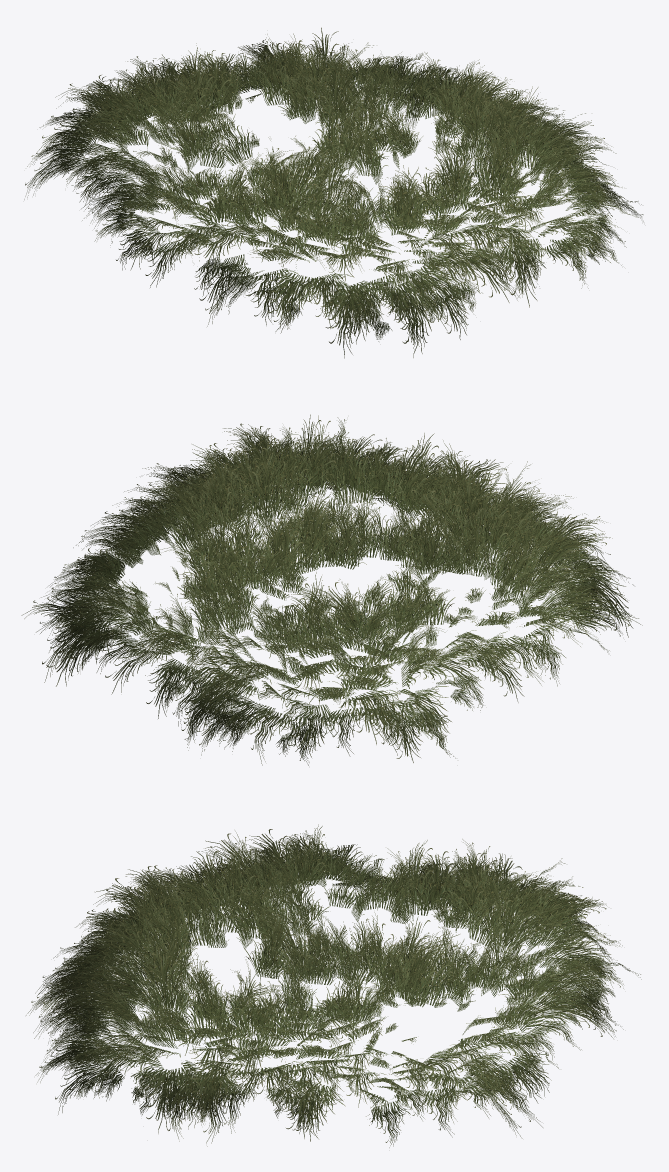
The model's file is Gras_Boulder_S_Gras_ds.fbx.
3 views of the same model, one above another, from view 1: azimuth 30°, elevation 25°; view 2: azimuth 150°, elevation 25°; view 3: azimuth 270°, elevation 25° (orthographic). The views are drawn at different scales.
Visible parts, largest first — view 1: Gras_Boulder_S_Gras; view 2: Gras_Boulder_S_Gras; view 3: Gras_Boulder_S_Gras.
Boxes of the visible parts, <box> form: Gras_Boulder_S_Gras: <box>24,27,643,358</box>; Gras_Boulder_S_Gras: <box>21,414,642,765</box>; Gras_Boulder_S_Gras: <box>26,824,641,1147</box>.
Size of the model in its own units: 833 by 295 by 874.
